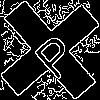P: (25, 25, 81, 83)
